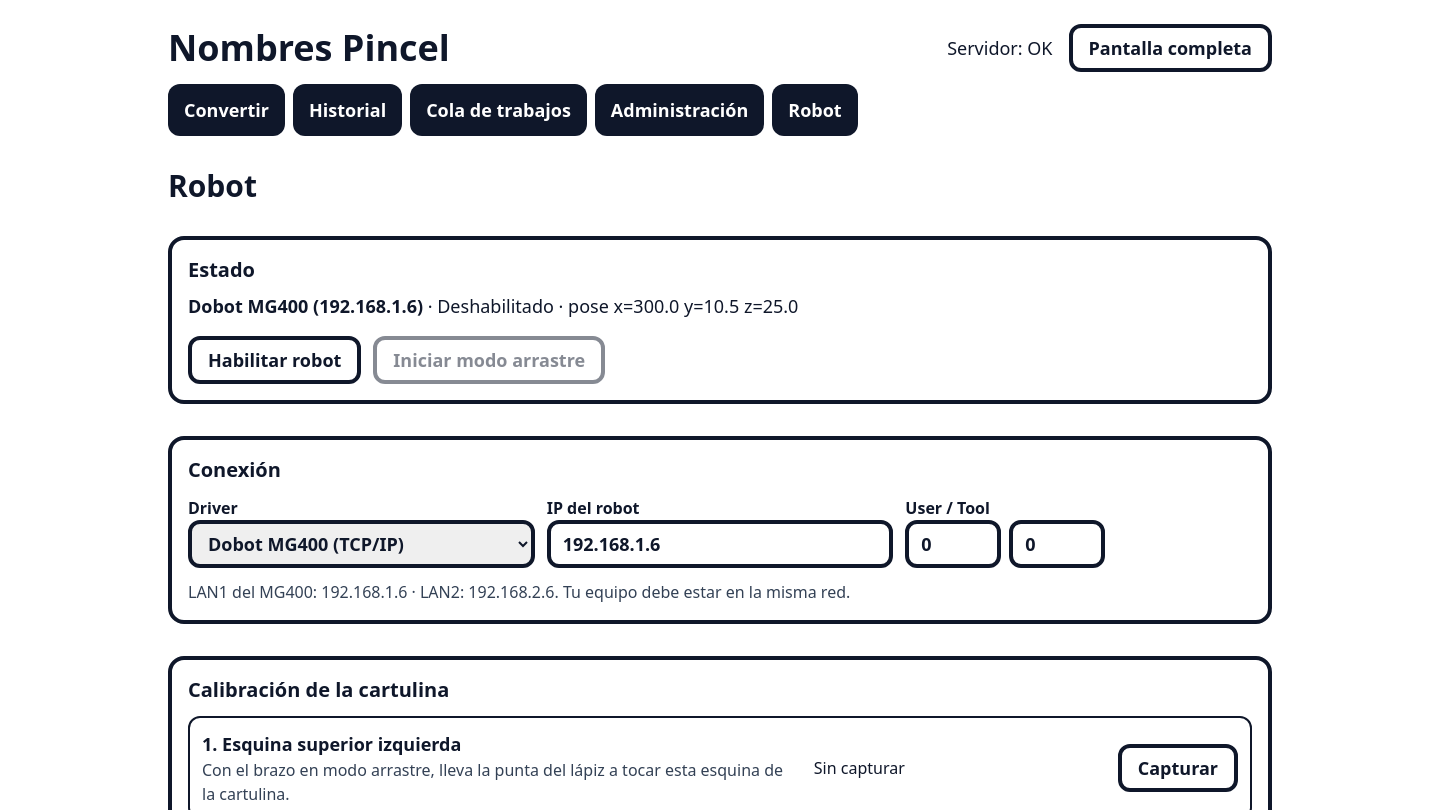
Test: RobotPage: habilitar y modo arrastre › muestra el error si el robot rechaza el comando
Click the button "Habilitar robot" at [275, 360], box [188,336,361,384]
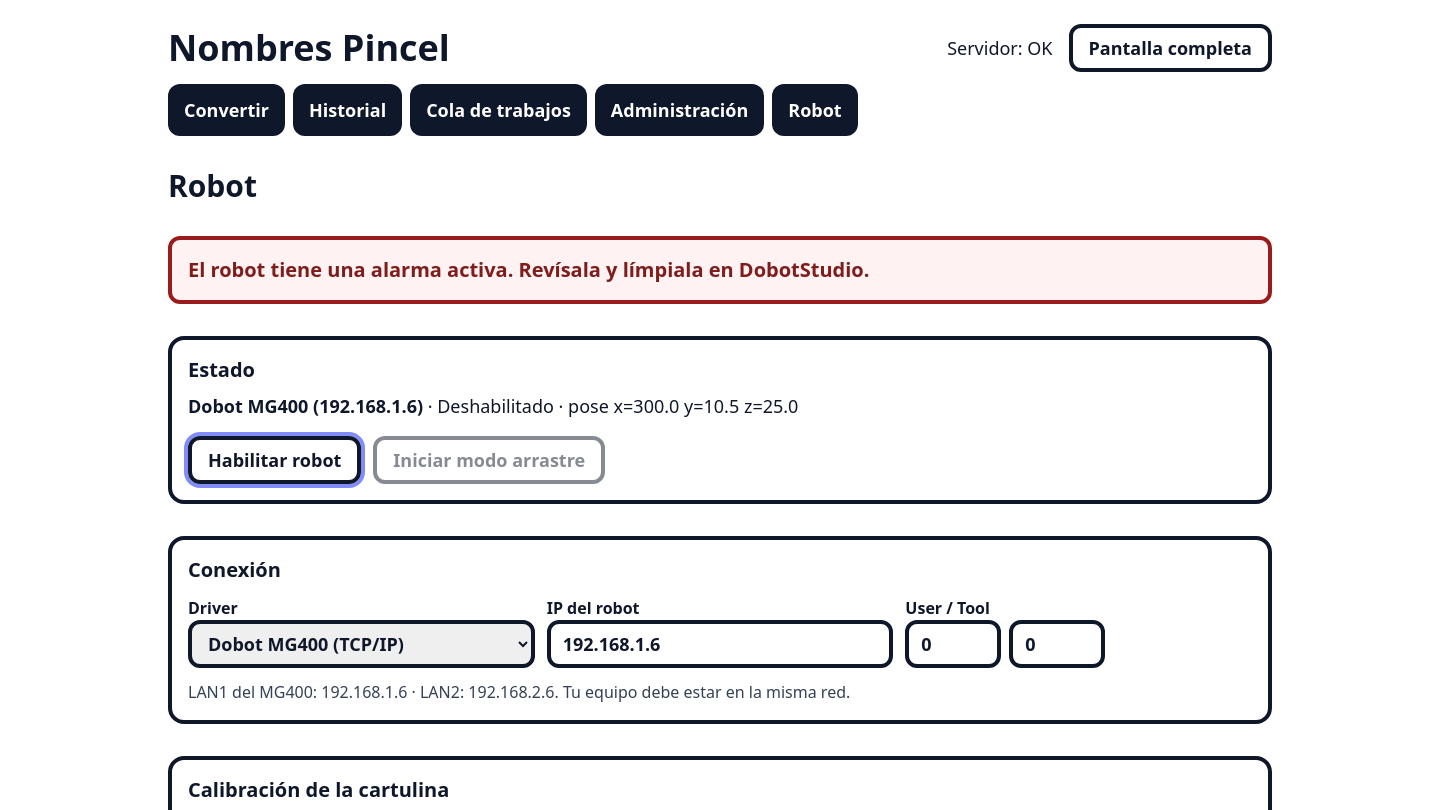
Now the message shows "alarma activa", box [188,256,870,283]
